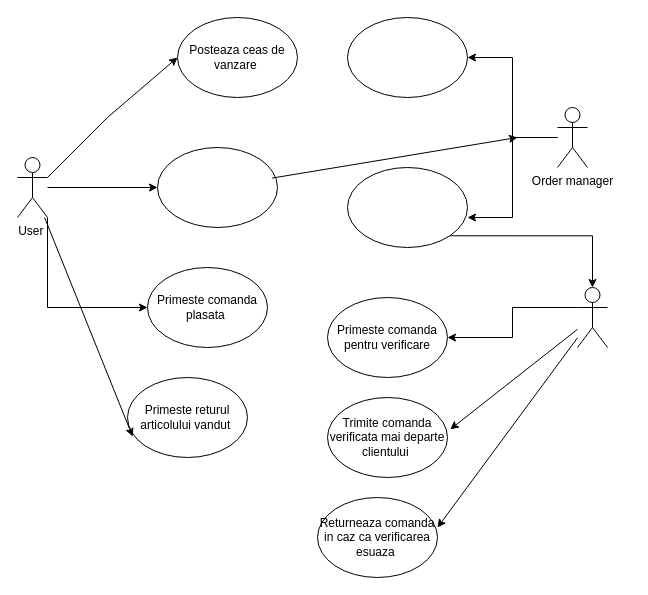
Some shapes in this 648 by 595 pixel diagram are drawn without their labels. The centre of each missing label's shape, as x and y in pixels:
"Expert ceasuri" goes at (592,317).
"Plaseaza comanda" goes at (217,187).
"Primeste comanda" goes at (407,57).
"Trimite comanda la curier/verificare" goes at (407,207).
